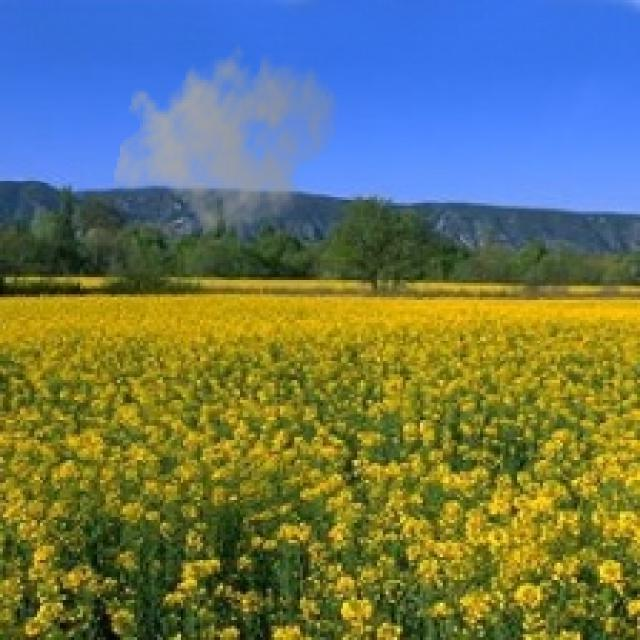smoke: (111, 34, 340, 243)
